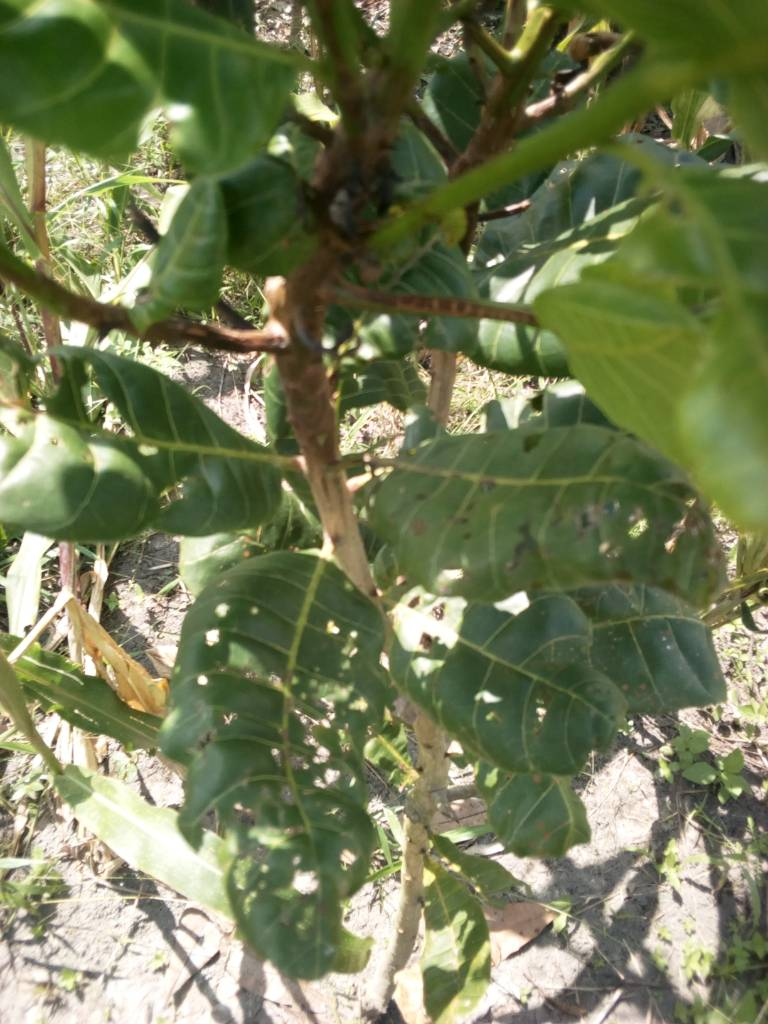Helopeltis anacardii: (175, 550, 404, 975), (1, 342, 280, 536), (443, 617, 624, 778), (140, 175, 321, 325)
